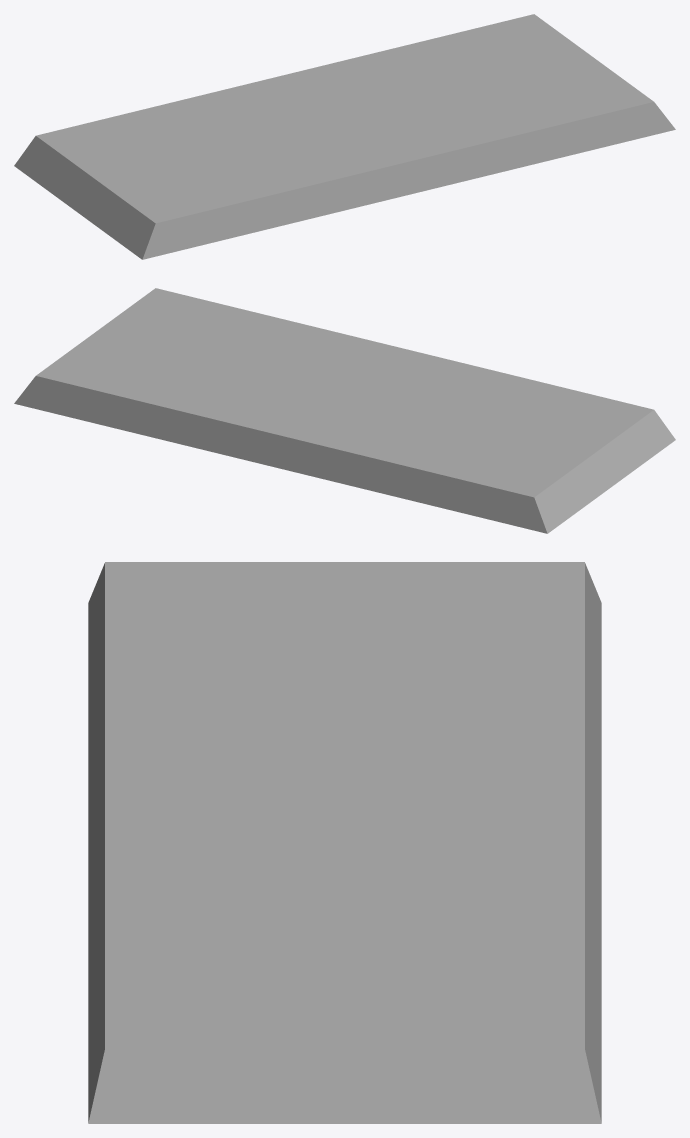
File: Rock_Tile_m_16.fbx
The picture shows the model from 3 angles, top to bottom: view 1: azimuth 30°, elevation 25°; view 2: azimuth 150°, elevation 25°; view 3: azimuth 270°, elevation 25°; orthographic projection. The views are drawn at different scales.
Visible parts, largest first — view 1: Rock_Tile_m_16; view 2: Rock_Tile_m_16; view 3: Rock_Tile_m_16.
Boxes of the visible parts, <box> form: Rock_Tile_m_16: <box>14,14,675,259</box>; Rock_Tile_m_16: <box>14,288,675,533</box>; Rock_Tile_m_16: <box>88,562,601,1123</box>.
Size of the model in its own units: 96 by 5 by 40.
